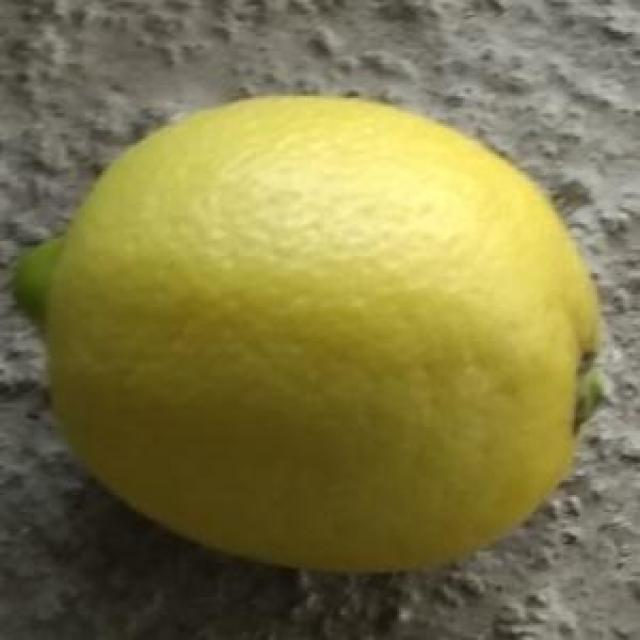lemon: (16, 87, 616, 565)
